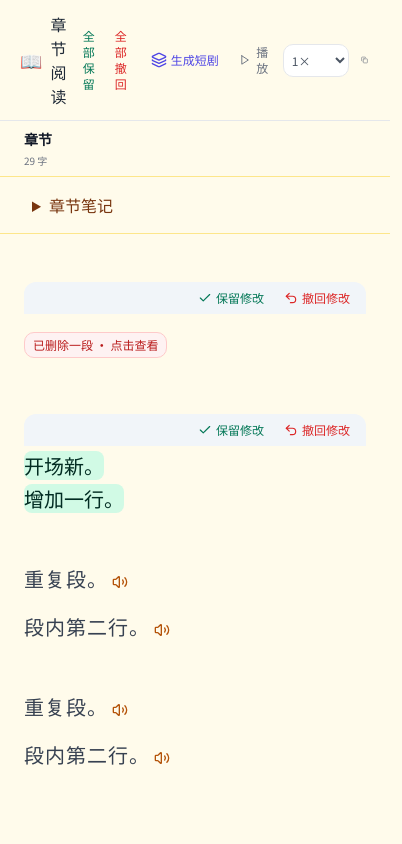
Test: chapter audiobook › keeps unchanged paragraphs playable during chapter review (appMode=true)
The width and height of the screenshot is (402, 844).
Expected: the number of buttons named "编辑段落" is 2, [24, 564, 170, 641]; [24, 692, 170, 769]
Expected: the button named "播放第4行" is shown, [112, 574, 128, 590]
Click the button named "播放第8行" at x=162, y=758, box [154, 750, 170, 766]
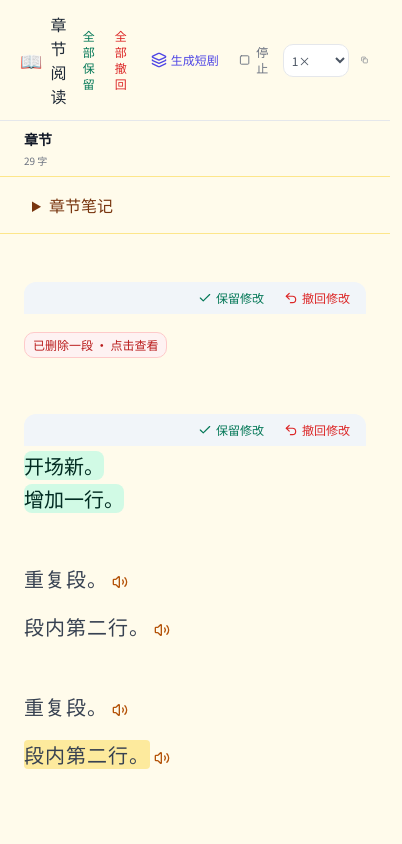
Expected: the 1st button "保留修改" is shown, [190, 286, 272, 310]
Expected: the 2nd text "段内第二行。" has attribute data-audiobook-active="true", [24, 740, 150, 769]
